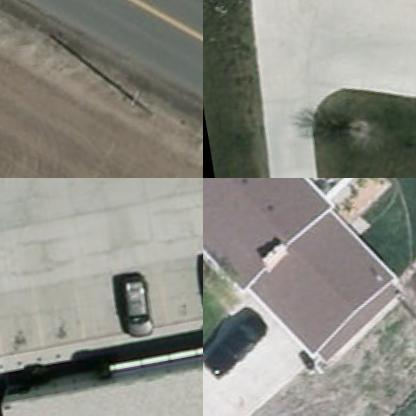car: (203, 306, 278, 383), (118, 268, 154, 338), (192, 242, 202, 320)
